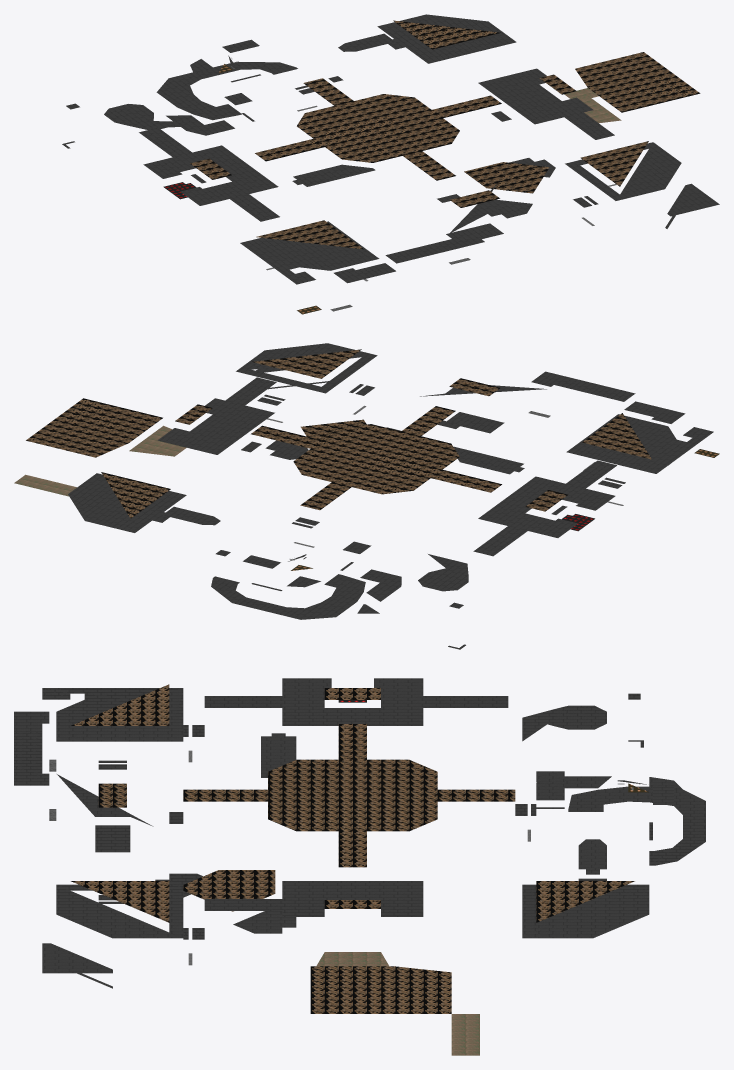
File: level_ceilings.obj
3 views of the same model, one above another, from view 1: azimuth 30°, elevation 25°; view 2: azimuth 150°, elevation 25°; view 3: azimuth 270°, elevation 25° (orthographic). The views are drawn at different scales.
Bounding box in the file's own units: 106 × 11.75 × 100.
Materials: 9 (9 with a texture image).
